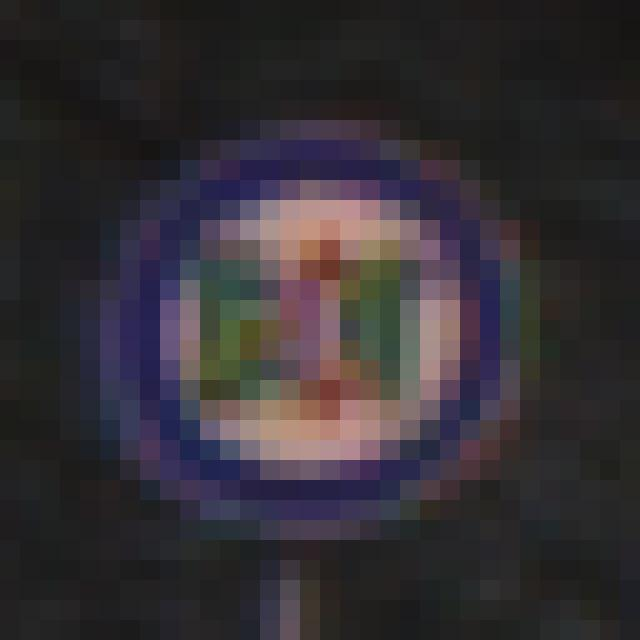SPEED LIMIT 100: (104, 133, 530, 540)
